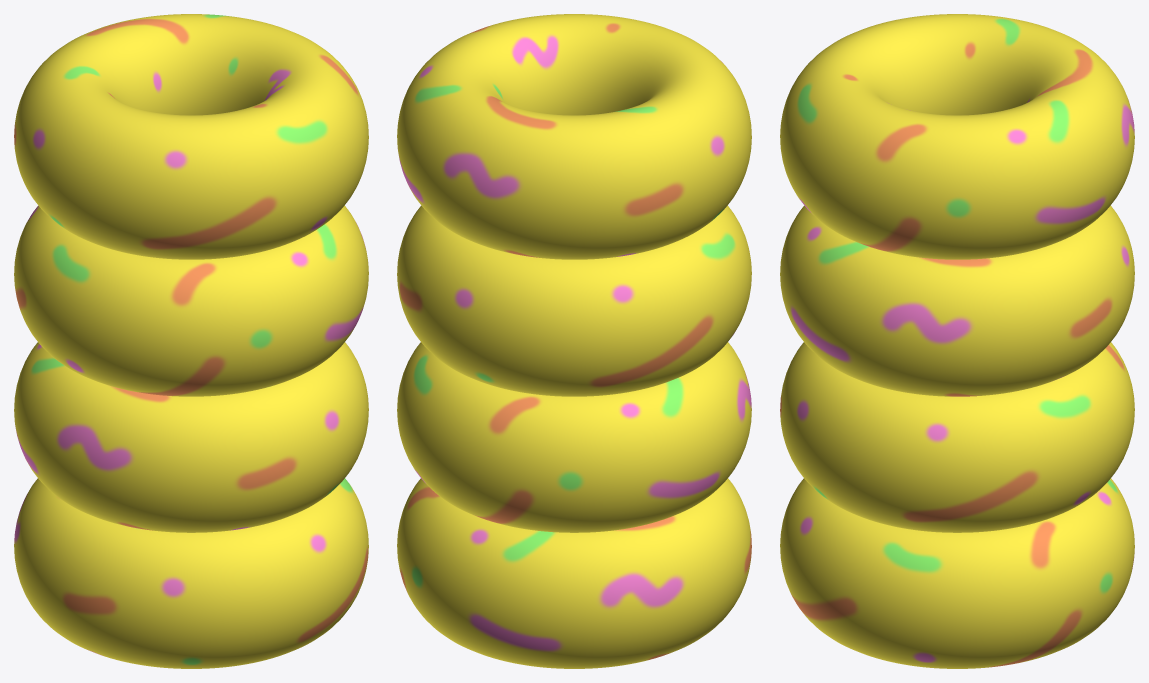
File: torus_yellow.fbx
The picture shows the model from 3 angles, left to right: view 1: azimuth 30°, elevation 25°; view 2: azimuth 150°, elevation 25°; view 3: azimuth 270°, elevation 25°; orthographic projection.
Parts seen in each view (by area): view 1: Torus.011, Torus.010, Torus.009, Torus.008; view 2: Torus.011, Torus.010, Torus.009, Torus.008; view 3: Torus.011, Torus.010, Torus.009, Torus.008.
Part boxes in pixels (x1=…): Torus.011: x1=14, y1=14, x2=368, y2=259; Torus.010: x1=14, y1=205, x2=368, y2=396; Torus.009: x1=14, y1=342, x2=368, y2=532; Torus.008: x1=14, y1=478, x2=368, y2=668; Torus.011: x1=397, y1=14, x2=751, y2=259; Torus.010: x1=397, y1=205, x2=751, y2=396; Torus.009: x1=397, y1=342, x2=751, y2=532; Torus.008: x1=397, y1=478, x2=751, y2=668; Torus.011: x1=780, y1=14, x2=1134, y2=259; Torus.010: x1=780, y1=205, x2=1134, y2=396; Torus.009: x1=780, y1=342, x2=1134, y2=532; Torus.008: x1=780, y1=478, x2=1134, y2=668.
Size of the model in its own units: 147 by 249 by 147.
